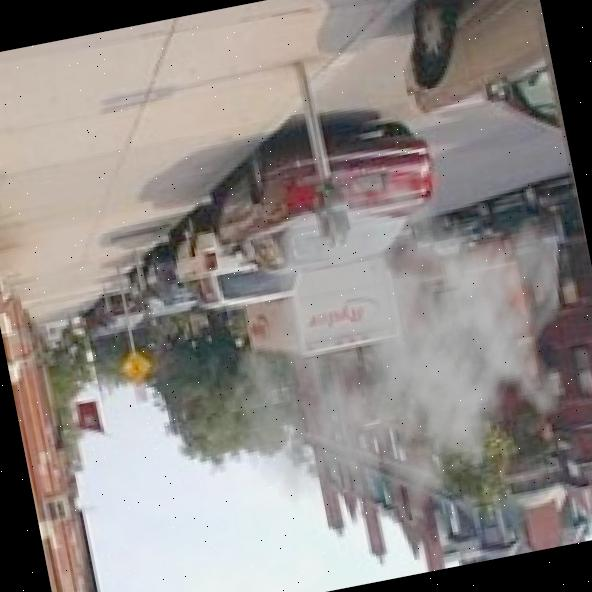smoke: (188, 119, 592, 577)
